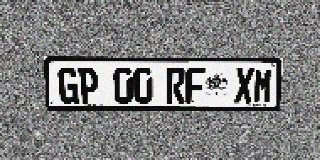0: (113, 68, 133, 104), (133, 68, 152, 104)
F: (185, 68, 205, 103)
G: (58, 68, 79, 104)
M: (253, 68, 273, 103)
P: (78, 68, 99, 104)
R: (166, 68, 185, 103)
X: (234, 68, 254, 103)
